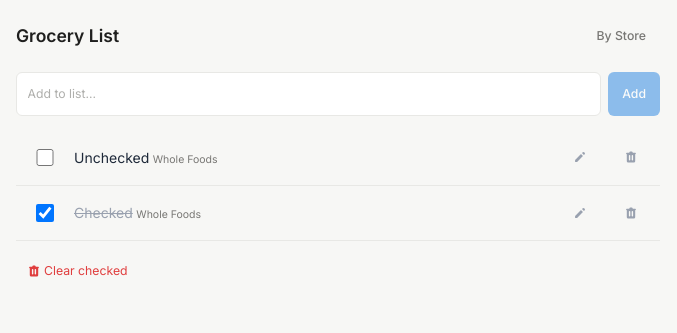
Test case: GroceryListView.vue › By Store mode › unchecked items render before checked items within each group
Click the button with test id "group-toggle-btn": click(621, 36) [583,14,660,58]
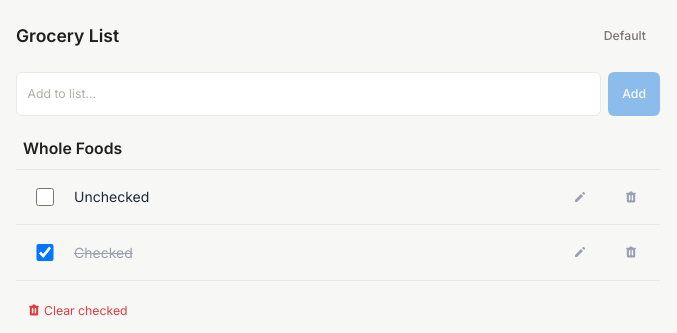
expect the element with test id "grocery-item" reads "Unchecked": met, box [74,188,149,205]
expect the element with test id "grocery-item" reads "Checked": met, box [74,244,133,261]
